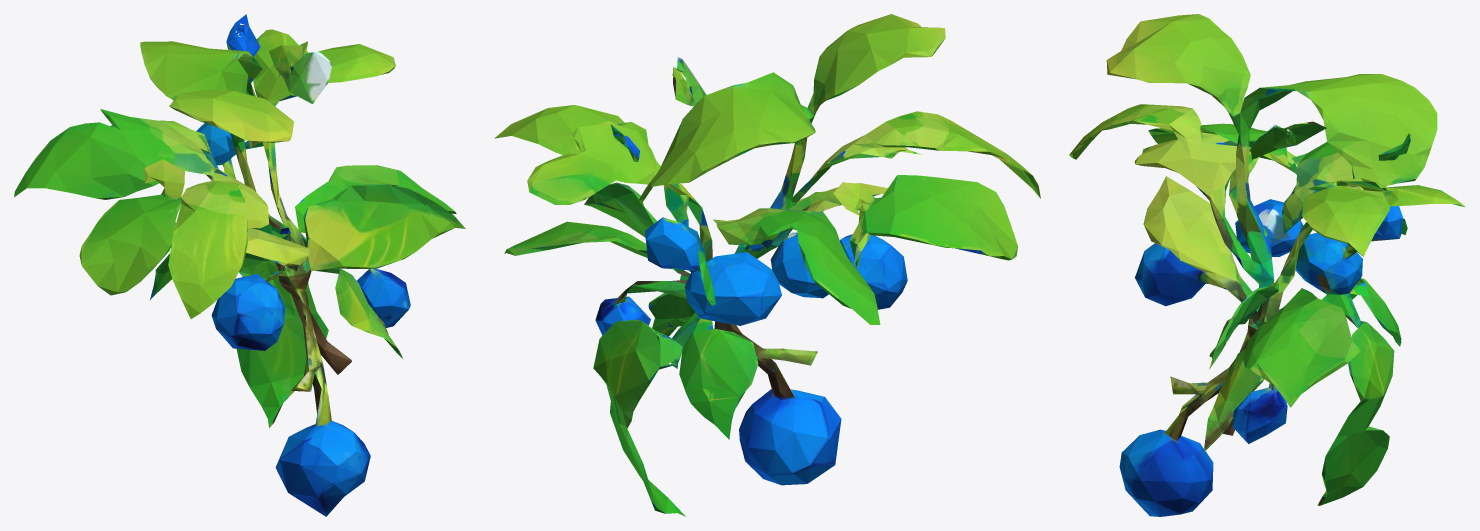
File: berry_blue.glb
The picture shows the model from 3 angles, left to right: view 1: azimuth 30°, elevation 25°; view 2: azimuth 150°, elevation 25°; view 3: azimuth 270°, elevation 25°; orthographic projection. The views are drawn at different scales.
Parts seen in each view (by area): view 1: tmpw1qc1zac.ply; view 2: tmpw1qc1zac.ply; view 3: tmpw1qc1zac.ply.
Boxes of the visible parts, <box> form: tmpw1qc1zac.ply: <box>14,14,465,516</box>; tmpw1qc1zac.ply: <box>494,14,1040,516</box>; tmpw1qc1zac.ply: <box>1069,14,1464,516</box>.
Size of the model in its own units: 1.97 by 2 by 1.62.
Materials: 1 (1 with a texture image).
